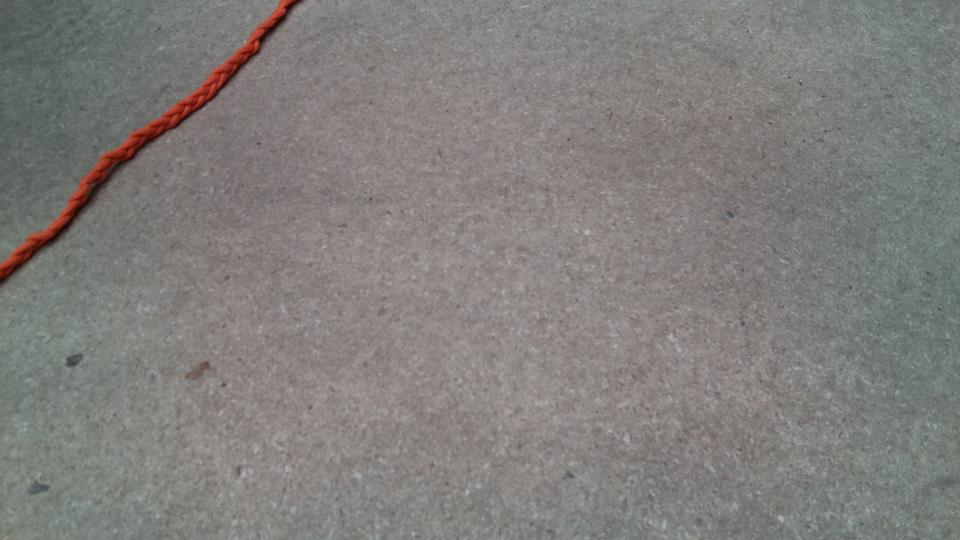rope: (1, 1, 285, 268)
